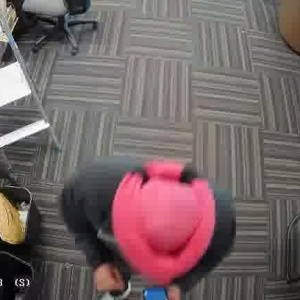person: (69, 154, 234, 297)
